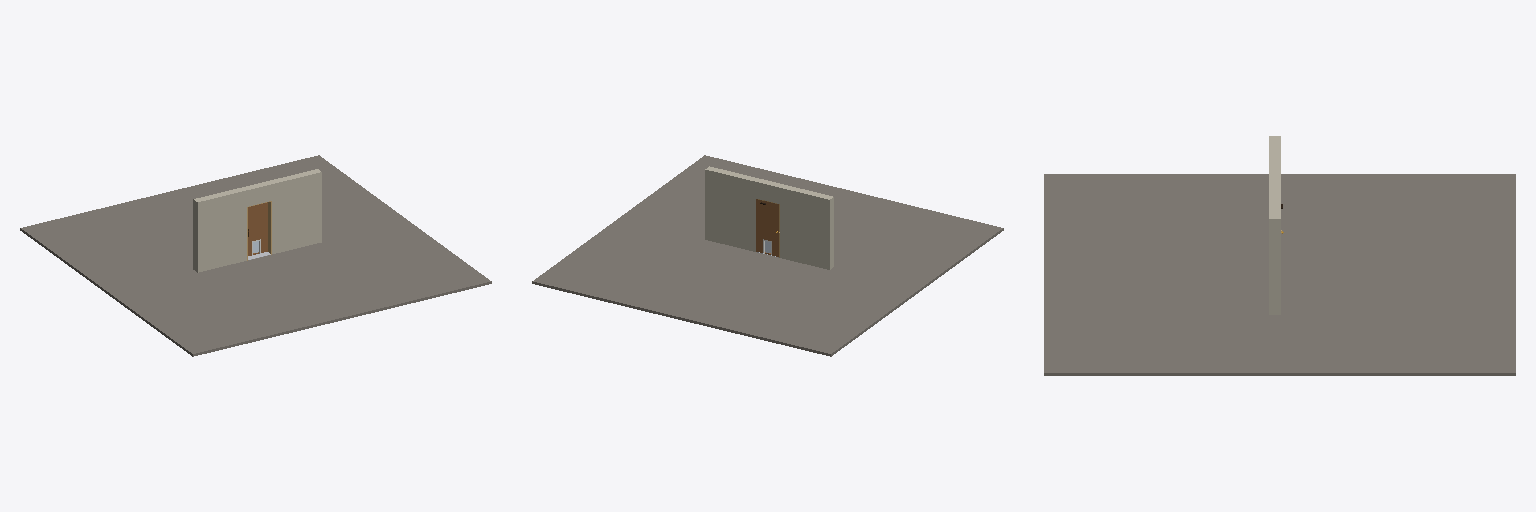
URDF robot description (db0767_swing_single_simple):
<?xml version="1.0" ?>
<robot xmlns:doorbench="https://github.com/adamraudonis/DoorBench/schema/urdf-ext" name="db0767_swing_single_simple">
  <link name="world_env">
    <visual name="floor_vis">
      <origin xyz="0 0 -0.05" rpy="0 0 0"/>
      <geometry>
        <box size="12 12 0.1"/>
      </geometry>
      <material name="mat_floor"/>
    </visual>
    <collision name="floor_col">
      <origin xyz="0 0 -0.05" rpy="0 0 0"/>
      <geometry>
        <box size="12 12 0.1"/>
      </geometry>
    </collision>
    <visual name="wall_left_vis">
      <origin xyz="-1.50475 -0.121 1.35" rpy="0 0 0"/>
      <geometry>
        <box size="1.9905 0.3 2.7"/>
      </geometry>
      <material name="mat_wall"/>
    </visual>
    <collision name="wall_left_col">
      <origin xyz="-1.50475 -0.121 1.35" rpy="0 0 0"/>
      <geometry>
        <box size="1.9905 0.3 2.7"/>
      </geometry>
    </collision>
    <visual name="wall_right_vis">
      <origin xyz="1.48975 -0.121 1.35" rpy="0 0 0"/>
      <geometry>
        <box size="2.0205 0.3 2.7"/>
      </geometry>
      <material name="mat_wall"/>
    </visual>
    <collision name="wall_right_col">
      <origin xyz="1.48975 -0.121 1.35" rpy="0 0 0"/>
      <geometry>
        <box size="2.0205 0.3 2.7"/>
      </geometry>
    </collision>
    <visual name="wall_header_vis">
      <origin xyz="-0.015 -0.121 2.397" rpy="0 0 0"/>
      <geometry>
        <box size="0.989 0.3 0.606"/>
      </geometry>
      <material name="mat_wall"/>
    </visual>
    <collision name="wall_header_col">
      <origin xyz="-0.015 -0.121 2.397" rpy="0 0 0"/>
      <geometry>
        <box size="0.989 0.3 0.606"/>
      </geometry>
    </collision>
    <visual name="hinge_0_jamb_vis">
      <origin xyz="0.4575 0.029 0.267" rpy="0 0 3.141593"/>
      <geometry>
        <mesh filename="../../hardware/hinge_jamb_c0c0a62ada.obj"/>
      </geometry>
      <material name="mat_hinge"/>
    </visual>
    <visual name="hinge_1_jamb_vis">
      <origin xyz="0.4575 0.029 1.029" rpy="0 0 3.141593"/>
      <geometry>
        <mesh filename="../../hardware/hinge_jamb_c0c0a62ada.obj"/>
      </geometry>
      <material name="mat_hinge"/>
    </visual>
    <visual name="hinge_2_jamb_vis">
      <origin xyz="0.4575 0.029 1.861" rpy="0 0 3.141593"/>
      <geometry>
        <mesh filename="../../hardware/hinge_jamb_c0c0a62ada.obj"/>
      </geometry>
      <material name="mat_hinge"/>
    </visual>
    <visual name="leaf_deadbolt_strike_b_vis">
      <origin xyz="-0.46 0 1.1215" rpy="1.570796 0 1.570796"/>
      <geometry>
        <box size="0.031 0.006 0.001"/>
      </geometry>
      <material name="mat_deadbolt"/>
    </visual>
    <visual name="leaf_deadbolt_strike_l_vis">
      <origin xyz="-0.46 -0.0125 1.14" rpy="1.570796 0 1.570796"/>
      <geometry>
        <box size="0.006 0.031 0.001"/>
      </geometry>
      <material name="mat_deadbolt"/>
    </visual>
    <visual name="leaf_deadbolt_strike_t_vis">
      <origin xyz="-0.46 0 1.1585" rpy="1.570796 0 1.570796"/>
      <geometry>
        <box size="0.031 0.006 0.001"/>
      </geometry>
      <material name="mat_deadbolt"/>
    </visual>
    <visual name="leaf_deadbolt_strike_r_vis">
      <origin xyz="-0.46 0.0125 1.14" rpy="1.570796 0 1.570796"/>
      <geometry>
        <box size="0.006 0.031 0.001"/>
      </geometry>
      <material name="mat_deadbolt"/>
    </visual>
    <visual name="jamb_hinge_vis">
      <origin xyz="0.47 -0.121 1.0225" rpy="0 0 0"/>
      <geometry>
        <box size="0.019 0.3 2.045"/>
      </geometry>
      <material name="mat_frame"/>
    </visual>
    <collision name="jamb_hinge_col">
      <origin xyz="0.47 -0.121 1.0225" rpy="0 0 0"/>
      <geometry>
        <box size="0.019 0.3 2.045"/>
      </geometry>
    </collision>
    <visual name="strike_965_wall_n_vis">
      <origin xyz="-0.485 -0.139425 0.965" rpy="0 0 0"/>
      <geometry>
        <box size="0.049 0.26315 0.0334"/>
      </geometry>
      <material name="mat_frame"/>
    </visual>
    <collision name="strike_965_wall_n_col">
      <origin xyz="-0.485 -0.139425 0.965" rpy="0 0 0"/>
      <geometry>
        <box size="0.049 0.26315 0.0334"/>
      </geometry>
    </collision>
    <visual name="strike_965_wall_p_vis">
      <origin xyz="-0.485 0.01585 0.965" rpy="0 0 0"/>
      <geometry>
        <box size="0.049 0.016 0.0334"/>
      </geometry>
      <material name="mat_frame"/>
    </visual>
    <collision name="strike_965_wall_p_col">
      <origin xyz="-0.485 0.01585 0.965" rpy="0 0 0"/>
      <geometry>
        <box size="0.049 0.016 0.0334"/>
      </geometry>
    </collision>
    <visual name="strike_965_ramp_vis">
      <origin xyz="-0.489636 0.028673 0.965" rpy="0 0 0.428384"/>
      <geometry>
        <box size="0.049 0.03298 0.0334"/>
      </geometry>
      <material name="mat_frame"/>
    </visual>
    <collision name="strike_965_ramp_col">
      <origin xyz="-0.489636 0.028673 0.965" rpy="0 0 0.428384"/>
      <geometry>
        <box size="0.049 0.03298 0.0334"/>
      </geometry>
    </collision>
    <visual name="strike_965_back_vis">
      <origin xyz="-0.49335 0 0.965" rpy="0 0 0"/>
      <geometry>
        <box size="0.0323 0.0157 0.0334"/>
      </geometry>
      <material name="mat_frame"/>
    </visual>
    <collision name="strike_965_back_col">
      <origin xyz="-0.49335 0 0.965" rpy="0 0 0"/>
      <geometry>
        <box size="0.0323 0.0157 0.0334"/>
      </geometry>
    </collision>
    <visual name="strike_1140_wall_n_vis">
      <origin xyz="-0.485 -0.14025 1.14" rpy="0 0 0"/>
      <geometry>
        <box size="0.049 0.2615 0.031"/>
      </geometry>
      <material name="mat_frame"/>
    </visual>
    <collision name="strike_1140_wall_n_col">
      <origin xyz="-0.485 -0.14025 1.14" rpy="0 0 0"/>
      <geometry>
        <box size="0.049 0.2615 0.031"/>
      </geometry>
    </collision>
    <visual name="strike_1140_wall_p_vis">
      <origin xyz="-0.485 0.01925 1.14" rpy="0 0 0"/>
      <geometry>
        <box size="0.049 0.0195 0.031"/>
      </geometry>
      <material name="mat_frame"/>
    </visual>
    <collision name="strike_1140_wall_p_col">
      <origin xyz="-0.485 0.01925 1.14" rpy="0 0 0"/>
      <geometry>
        <box size="0.049 0.0195 0.031"/>
      </geometry>
    </collision>
    <visual name="strike_1140_back_vis">
      <origin xyz="-0.4997 0 1.14" rpy="0 0 0"/>
      <geometry>
        <box size="0.0196 0.019 0.031"/>
      </geometry>
      <material name="mat_frame"/>
    </visual>
    <collision name="strike_1140_back_col">
      <origin xyz="-0.4997 0 1.14" rpy="0 0 0"/>
      <geometry>
        <box size="0.0196 0.019 0.031"/>
      </geometry>
    </collision>
    <visual name="jamb_strike_0_vis">
      <origin xyz="-0.485 -0.121 0.47415" rpy="0 0 0"/>
      <geometry>
        <box size="0.049 0.3 0.9483"/>
      </geometry>
      <material name="mat_frame"/>
    </visual>
    <collision name="jamb_strike_0_col">
      <origin xyz="-0.485 -0.121 0.47415" rpy="0 0 0"/>
      <geometry>
        <box size="0.049 0.3 0.9483"/>
      </geometry>
    </collision>
    <visual name="jamb_strike_1_vis">
      <origin xyz="-0.485 -0.121 1.0531" rpy="0 0 0"/>
      <geometry>
        <box size="0.049 0.3 0.1428"/>
      </geometry>
      <material name="mat_frame"/>
    </visual>
    <collision name="jamb_strike_1_col">
      <origin xyz="-0.485 -0.121 1.0531" rpy="0 0 0"/>
      <geometry>
        <box size="0.049 0.3 0.1428"/>
      </geometry>
    </collision>
    <visual name="jamb_strike_2_vis">
      <origin xyz="-0.485 -0.121 1.60025" rpy="0 0 0"/>
      <geometry>
        <box size="0.049 0.3 0.8895"/>
      </geometry>
      <material name="mat_frame"/>
    </visual>
    <collision name="jamb_strike_2_col">
      <origin xyz="-0.485 -0.121 1.60025" rpy="0 0 0"/>
      <geometry>
        <box size="0.049 0.3 0.8895"/>
      </geometry>
    </collision>
    <visual name="jamb_head_vis">
      <origin xyz="-0.015 -0.121 2.0545" rpy="0 0 0"/>
      <geometry>
        <box size="0.989 0.3 0.019"/>
      </geometry>
      <material name="mat_frame"/>
    </visual>
    <collision name="jamb_head_col">
      <origin xyz="-0.015 -0.121 2.0545" rpy="0 0 0"/>
      <geometry>
        <box size="0.989 0.3 0.019"/>
      </geometry>
    </collision>
    <visual name="head_stud_vis">
      <origin xyz="-0.015 -0.121 2.079" rpy="0 0 0"/>
      <geometry>
        <box size="0.989 0.3 0.03"/>
      </geometry>
      <material name="mat_wall"/>
    </visual>
    <collision name="head_stud_col">
      <origin xyz="-0.015 -0.121 2.079" rpy="0 0 0"/>
      <geometry>
        <box size="0.989 0.3 0.03"/>
      </geometry>
    </collision>
    <visual name="stop_hinge_vis">
      <origin xyz="0.455 -0.0385 1.0225" rpy="0 0 0"/>
      <geometry>
        <box size="0.011 0.032 2.045"/>
      </geometry>
      <material name="mat_frame"/>
    </visual>
    <collision name="stop_hinge_col">
      <origin xyz="0.455 -0.0385 1.0225" rpy="0 0 0"/>
      <geometry>
        <box size="0.011 0.032 2.045"/>
      </geometry>
    </collision>
    <visual name="stop_strike_vis">
      <origin xyz="-0.455 -0.0385 1.0225" rpy="0 0 0"/>
      <geometry>
        <box size="0.011 0.032 2.045"/>
      </geometry>
      <material name="mat_frame"/>
    </visual>
    <collision name="stop_strike_col">
      <origin xyz="-0.455 -0.0385 1.0225" rpy="0 0 0"/>
      <geometry>
        <box size="0.011 0.032 2.045"/>
      </geometry>
    </collision>
    <visual name="stop_head_vis">
      <origin xyz="0 -0.0385 2.0395" rpy="0 0 0"/>
      <geometry>
        <box size="0.921 0.032 0.011"/>
      </geometry>
      <material name="mat_frame"/>
    </visual>
    <collision name="stop_head_col">
      <origin xyz="0 -0.0385 2.0395" rpy="0 0 0"/>
      <geometry>
        <box size="0.921 0.032 0.011"/>
      </geometry>
    </collision>
    <visual name="seal_hinge_vis">
      <origin xyz="0.4575 -0.025 1.0225" rpy="0 0 0"/>
      <geometry>
        <box size="0.008 0.006 2.045"/>
      </geometry>
      <material name="mat_seal"/>
    </visual>
    <visual name="seal_strike_vis">
      <origin xyz="-0.4575 -0.025 1.0225" rpy="0 0 0"/>
      <geometry>
        <box size="0.008 0.006 2.045"/>
      </geometry>
      <material name="mat_seal"/>
    </visual>
    <visual name="seal_head_vis">
      <origin xyz="0 -0.025 2.033" rpy="0 0 0"/>
      <geometry>
        <box size="0.881 0.006 0.016"/>
      </geometry>
      <material name="mat_seal"/>
    </visual>
    <visual name="threshold_vis">
      <origin xyz="0 -0.121 0.0065" rpy="0 0 0"/>
      <geometry>
        <box size="0.959 0.3 0.013"/>
      </geometry>
      <material name="mat_threshold"/>
    </visual>
    <collision name="threshold_col">
      <origin xyz="0 -0.121 0.0065" rpy="0 0 0"/>
      <geometry>
        <box size="0.959 0.3 0.013"/>
      </geometry>
    </collision>
  </link>
  <link name="leaf">
    <inertial>
      <origin xyz="-0.440034 -0.023275 1.097219" rpy="0 0 0"/>
      <mass value="42.910923"/>
      <inertia ixx="17.399632246" ixy="-0.076183382" ixz="-0.891565211" iyy="20.126183554" iyz="-0.275458288" izz="2.781868549"/>
    </inertial>
    <visual name="leaf_slab_below_vis">
      <origin xyz="-0.457 -0.029 0.0415" rpy="0 0 0"/>
      <geometry>
        <box size="0.914 0.044 0.049"/>
      </geometry>
      <material name="mat_leaf"/>
    </visual>
    <collision name="leaf_slab_below_col">
      <origin xyz="-0.457 -0.029 0.0415" rpy="0 0 0"/>
      <geometry>
        <box size="0.914 0.044 0.049"/>
      </geometry>
    </collision>
    <visual name="leaf_slab_above_vis">
      <origin xyz="-0.457 -0.029 1.2795" rpy="0 0 0"/>
      <geometry>
        <box size="0.914 0.044 1.523"/>
      </geometry>
      <material name="mat_leaf"/>
    </visual>
    <collision name="leaf_slab_above_col">
      <origin xyz="-0.457 -0.029 1.2795" rpy="0 0 0"/>
      <geometry>
        <box size="0.914 0.044 1.523"/>
      </geometry>
    </collision>
    <visual name="leaf_slab_left_vis">
      <origin xyz="-0.7485 -0.029 0.292" rpy="0 0 0"/>
      <geometry>
        <box size="0.331 0.044 0.452"/>
      </geometry>
      <material name="mat_leaf"/>
    </visual>
    <collision name="leaf_slab_left_col">
      <origin xyz="-0.7485 -0.029 0.292" rpy="0 0 0"/>
      <geometry>
        <box size="0.331 0.044 0.452"/>
      </geometry>
    </collision>
    <visual name="leaf_slab_right_vis">
      <origin xyz="-0.1655 -0.029 0.292" rpy="0 0 0"/>
      <geometry>
        <box size="0.331 0.044 0.452"/>
      </geometry>
      <material name="mat_leaf"/>
    </visual>
    <collision name="leaf_slab_right_col">
      <origin xyz="-0.1655 -0.029 0.292" rpy="0 0 0"/>
      <geometry>
        <box size="0.331 0.044 0.452"/>
      </geometry>
    </collision>
    <visual name="hinge_0_vis">
      <origin xyz="0 0 0.267" rpy="0 0 3.141593"/>
      <geometry>
        <mesh filename="../../hardware/hinge_2af0f4d6ca.obj"/>
      </geometry>
      <material name="mat_hinge"/>
    </visual>
    <visual name="hinge_1_vis">
      <origin xyz="0 0 1.029" rpy="0 0 3.141593"/>
      <geometry>
        <mesh filename="../../hardware/hinge_2af0f4d6ca.obj"/>
      </geometry>
      <material name="mat_hinge"/>
    </visual>
    <visual name="hinge_2_vis">
      <origin xyz="0 0 1.861" rpy="0 0 3.141593"/>
      <geometry>
        <mesh filename="../../hardware/hinge_2af0f4d6ca.obj"/>
      </geometry>
      <material name="mat_hinge"/>
    </visual>
    <visual name="leaf_handleset_n_vis">
      <origin xyz="-0.809 -0.051 0.905" rpy="1.570796 0 0"/>
      <geometry>
        <mesh filename="../../hardware/handleset_beb5526ad2.obj"/>
      </geometry>
      <material name="mat_op_bronze"/>
    </visual>
    <collision name="leaf_handleset_col_n_col">
      <origin xyz="-0.809 -0.111 0.905" rpy="0 0 0"/>
      <geometry>
        <cylinder radius="0.011" length="0.18"/>
      </geometry>
    </collision>
    <visual name="leaf_latch_bolt_faceplate_vis">
      <origin xyz="-0.9134 -0.029 0.965" rpy="0 0 0"/>
      <geometry>
        <box size="0.0012 0.0247 0.0534"/>
      </geometry>
      <material name="mat_bolt"/>
    </visual>
    <visual name="leaf_deadbolt_faceplate_vis">
      <origin xyz="-0.9134 -0.029 1.14" rpy="0 0 0"/>
      <geometry>
        <box size="0.0012 0.028 0.049"/>
      </geometry>
      <material name="mat_deadbolt"/>
    </visual>
    <visual name="closer_body_vis">
      <origin xyz="-0.297 -0.007 1.944" rpy="1.570796 0 3.141593"/>
      <geometry>
        <mesh filename="../../hardware/closer_body_78399c60f5.obj"/>
      </geometry>
      <material name="mat_closer"/>
    </visual>
    <collision name="closer_body_col_col">
      <origin xyz="-0.297 0.023 1.944" rpy="0 0 0"/>
      <geometry>
        <box size="0.2 0.06 0.05"/>
      </geometry>
    </collision>
    <visual name="pet_frame_top_vis">
      <origin xyz="-0.457 -0.029 0.537" rpy="0 0 0"/>
      <geometry>
        <box size="0.33 0.056 0.04"/>
      </geometry>
      <material name="mat_petframe"/>
    </visual>
    <visual name="pet_frame_l_vis">
      <origin xyz="-0.602 -0.029 0.292" rpy="0 0 0"/>
      <geometry>
        <box size="0.04 0.056 0.53"/>
      </geometry>
      <material name="mat_petframe"/>
    </visual>
    <visual name="pet_frame_r_vis">
      <origin xyz="-0.312 -0.029 0.292" rpy="0 0 0"/>
      <geometry>
        <box size="0.04 0.056 0.53"/>
      </geometry>
      <material name="mat_petframe"/>
    </visual>
  </link>
  <link name="leaf_handle">
    <inertial>
      <origin xyz="0 0.058082 0" rpy="0 0 0"/>
      <mass value="0.549341"/>
      <inertia ixx="0.000270874" ixy="0" ixz="0" iyy="0.000155778" iyz="0" izz="0.000270874"/>
    </inertial>
    <visual name="leaf_handle_knob_p_vis">
      <origin xyz="0 0.022 0" rpy="1.570796 0 3.141593"/>
      <geometry>
        <mesh filename="../../hardware/knob_d1888f6f03.obj"/>
      </geometry>
      <material name="mat_op_brass"/>
    </visual>
    <visual name="leaf_handle_knob_col_p_vis">
      <origin xyz="0 0.0685 0" rpy="0 0 0"/>
      <geometry>
        <sphere radius="0.0243"/>
      </geometry>
      <material name="mat_op_brass"/>
    </visual>
    <collision name="leaf_handle_knob_col_p_col">
      <origin xyz="0 0.0685 0" rpy="0 0 0"/>
      <geometry>
        <sphere radius="0.0243"/>
      </geometry>
    </collision>
    <collision name="leaf_handle_knob_neck_p_col">
      <origin xyz="0 0.034 0" rpy="-1.570796 0 0"/>
      <geometry>
        <cylinder radius="0.011" length="0.024"/>
      </geometry>
    </collision>
  </link>
  <link name="leaf_thumbpiece">
    <inertial>
      <origin xyz="0 0.004 -0.02" rpy="0 0 0"/>
      <mass value="0.05184"/>
      <inertia ixx="0.000007488" ixy="0" ixz="0" iyy="0.000009124" iyz="0" izz="0.000006981"/>
    </inertial>
    <visual name="leaf_thumbpiece_geom_vis">
      <origin xyz="0 0 -0.02" rpy="0 0 0"/>
      <geometry>
        <box size="0.036 0.008 0.04"/>
      </geometry>
      <material name="mat_op_bronze"/>
    </visual>
    <collision name="leaf_thumbpiece_geom_col">
      <origin xyz="0 0 -0.02" rpy="0 0 0"/>
      <geometry>
        <box size="0.036 0.008 0.04"/>
      </geometry>
    </collision>
    <visual name="leaf_thumbpiece_boss_vis">
      <origin xyz="0 0.012 -0.02" rpy="0 0 0"/>
      <geometry>
        <box size="0.02 0.024 0.012"/>
      </geometry>
      <material name="mat_op_bronze"/>
    </visual>
  </link>
  <link name="leaf_latch_bolt">
    <inertial>
      <origin xyz="0.00865 0 0" rpy="0 0 0"/>
      <mass value="0.041419"/>
      <inertia ixx="0.000000798" ixy="0" ixz="0" iyy="0.000005598" iyz="0" izz="0.000005598"/>
    </inertial>
    <visual name="leaf_latch_bolt_capsule_vis">
      <origin xyz="0.00865 0 0" rpy="0 -1.570796 0"/>
      <geometry>
        <cylinder radius="0.00635" length="0.03"/>
      </geometry>
      <material name="mat_bolt"/>
    </visual>
    <collision name="leaf_latch_bolt_capsule_col">
      <origin xyz="0.00865 0 0" rpy="0 -1.570796 0"/>
      <geometry>
        <cylinder radius="0.00635" length="0.03"/>
      </geometry>
    </collision>
  </link>
  <link name="leaf_deadbolt">
    <inertial>
      <origin xyz="0.0023 0 0" rpy="0 0 0"/>
      <mass value="0.18836"/>
      <inertia ixx="0.000013829" ixy="0" ixz="0" iyy="0.000057986" iyz="0" izz="0.000052194"/>
    </inertial>
    <visual name="leaf_deadbolt_box_vis">
      <origin xyz="0.0023 0 0" rpy="0 0 0"/>
      <geometry>
        <box size="0.0554 0.016 0.025"/>
      </geometry>
      <material name="mat_deadbolt"/>
    </visual>
    <collision name="leaf_deadbolt_box_col">
      <origin xyz="0.0023 0 0" rpy="0 0 0"/>
      <geometry>
        <box size="0.0554 0.016 0.025"/>
      </geometry>
    </collision>
  </link>
  <link name="pet_flap">
    <inertial>
      <origin xyz="0 0 -0.225" rpy="0 0 0"/>
      <mass value="0.224067"/>
      <inertia ixx="0.003648179" ixy="0" ixz="0" iyy="0.0047414" iyz="0" izz="0.001093819"/>
    </inertial>
    <visual name="pet_flap_geom_vis">
      <origin xyz="0 0 -0.225" rpy="0 0 0"/>
      <geometry>
        <box size="0.242 0.004 0.442"/>
      </geometry>
      <material name="mat_petflap"/>
    </visual>
    <collision name="pet_flap_geom_col">
      <origin xyz="0 0 -0.225" rpy="0 0 0"/>
      <geometry>
        <box size="0.242 0.004 0.442"/>
      </geometry>
    </collision>
  </link>
  <joint name="leaf_hinge" type="revolute">
    <origin xyz="0.4575 0.029 0" rpy="0 0 0"/>
    <parent link="world_env"/>
    <child link="leaf"/>
    <axis xyz="0 0 -1"/>
    <limit lower="0" upper="1.570796" effort="2000" velocity="10"/>
    <dynamics damping="6.25611" friction="1.71993"/>
    <doorbench:spring stiffness="10.625184" springref="-1.309154" note="tau = -stiffness*(q - springref); not native URDF"/>
    <doorbench:closer damping_closing="40" damping_opening="6" backcheck_angle="0" backcheck_damping="0"/>
  </joint>
  <joint name="leaf_handle_hinge" type="revolute">
    <origin xyz="-0.844 -0.029 0.965" rpy="0 0 0"/>
    <parent link="leaf"/>
    <child link="leaf_handle"/>
    <axis xyz="0 1 0"/>
    <limit lower="0" upper="0.87" effort="2000" velocity="10"/>
    <dynamics damping="0.142525" friction="0.038"/>
    <doorbench:spring stiffness="0.5" springref="-0.5" note="tau = -stiffness*(q - springref); not native URDF"/>
  </joint>
  <joint name="leaf_thumbpiece_hinge" type="revolute">
    <origin xyz="-0.809 -0.069 1.097" rpy="0 0 0"/>
    <parent link="leaf"/>
    <child link="leaf_thumbpiece"/>
    <axis xyz="-1 0 0"/>
    <limit lower="0" upper="0.35" effort="2000" velocity="10"/>
    <dynamics damping="0.219407" friction="0.058"/>
    <doorbench:spring stiffness="1.2" springref="-0.416667" note="tau = -stiffness*(q - springref); not native URDF"/>
  </joint>
  <joint name="leaf_latch_bolt_slide" type="prismatic">
    <origin xyz="-0.914 -0.029 0.965" rpy="0 0 0"/>
    <parent link="leaf"/>
    <child link="leaf_latch_bolt"/>
    <axis xyz="1 0 0"/>
    <limit lower="0" upper="0.0127" effort="5000" velocity="10"/>
    <dynamics damping="2" friction="0.3"/>
    <doorbench:spring stiffness="300" springref="-0.008333" note="tau = -stiffness*(q - springref); not native URDF"/>
    <mimic joint="leaf_thumbpiece_hinge" multiplier="0.039688" offset="0"/>
    <doorbench:coupling one_sided="true" note="MJCF uses a one-sided tendon (bolt may retract further, e.g. riding over the strike lip); mimic is bilateral"/>
    <mimic joint="leaf_handle_hinge" multiplier="0.015679" offset="0"/>
    <doorbench:coupling one_sided="true" note="MJCF uses a one-sided tendon (bolt may retract further, e.g. riding over the strike lip); mimic is bilateral"/>
  </joint>
  <joint name="leaf_deadbolt_fixed" type="fixed">
    <origin xyz="-0.914 -0.029 1.14" rpy="0 0 0"/>
    <parent link="leaf"/>
    <child link="leaf_deadbolt"/>
  </joint>
  <joint name="pet_flap_hinge" type="revolute">
    <origin xyz="-0.457 -0.029 0.517" rpy="0 0 0"/>
    <parent link="leaf"/>
    <child link="pet_flap"/>
    <axis xyz="-1 0 0"/>
    <limit lower="-1.45" upper="1.45" effort="2000" velocity="10"/>
    <dynamics damping="0.02" friction="0.02"/>
  </joint>
  <material name="mat_bolt">
    <color rgba="0.85 0.66 0.3 1"/>
  </material>
  <material name="mat_closer">
    <color rgba="0.22 0.17 0.13 1"/>
  </material>
  <material name="mat_deadbolt">
    <color rgba="0.85 0.66 0.3 1"/>
  </material>
  <material name="mat_floor">
    <color rgba="0.55 0.53 0.5 1"/>
  </material>
  <material name="mat_frame">
    <color rgba="0.82 0.7 0.5 1"/>
  </material>
  <material name="mat_hinge">
    <color rgba="0.65 0.66 0.68 1"/>
  </material>
  <material name="mat_leaf">
    <color rgba="0.62 0.45 0.3 1"/>
  </material>
  <material name="mat_op_brass">
    <color rgba="0.85 0.66 0.3 1"/>
  </material>
  <material name="mat_op_bronze">
    <color rgba="0.3 0.22 0.15 1"/>
  </material>
  <material name="mat_petflap">
    <color rgba="0.85 0.9 0.95 0.45"/>
  </material>
  <material name="mat_petframe">
    <color rgba="0.92 0.92 0.9 1"/>
  </material>
  <material name="mat_seal">
    <color rgba="0.1 0.1 0.1 1"/>
  </material>
  <material name="mat_threshold">
    <color rgba="0.8 0.81 0.83 1"/>
  </material>
  <material name="mat_wall">
    <color rgba="0.78 0.76 0.7 1"/>
  </material>
</robot>

--- What the picture shows (computed from the rendered views, not written in the file) ---
3 views of the same robot in one strip: view 1: azimuth 30°, elevation 25°; view 2: azimuth 150°, elevation 25°; view 3: azimuth 270°, elevation 25° (orthographic).
Model db0767_swing_single_simple with 7 links and 6 joints (4 revolute, 1 prismatic, 1 fixed), rooted at world_env, posed every joint at zero.
Visible links, largest first — view 1: world_env, leaf; view 2: world_env, leaf; view 3: world_env.
Boxes of the visible links, x1=… form: world_env: x1=20, y1=155, x2=491, y2=356; leaf: x1=248, y1=202, x2=267, y2=255; world_env: x1=532, y1=155, x2=1003, y2=356; leaf: x1=756, y1=199, x2=778, y2=256; world_env: x1=1044, y1=136, x2=1515, y2=375.
Size in the robot's own frame: 12 by 12 by 2.8 metres.
Meshes: 5 distinct files referenced, 9 mesh visuals loaded (5 OBJ).
